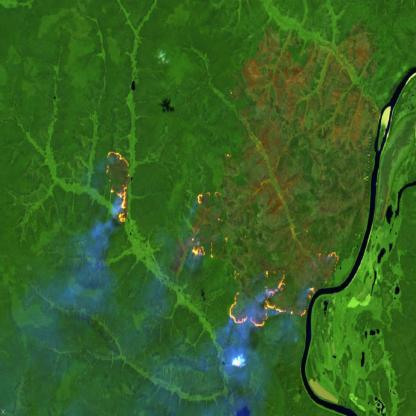fire: (187, 185, 342, 341), (105, 142, 133, 230)
